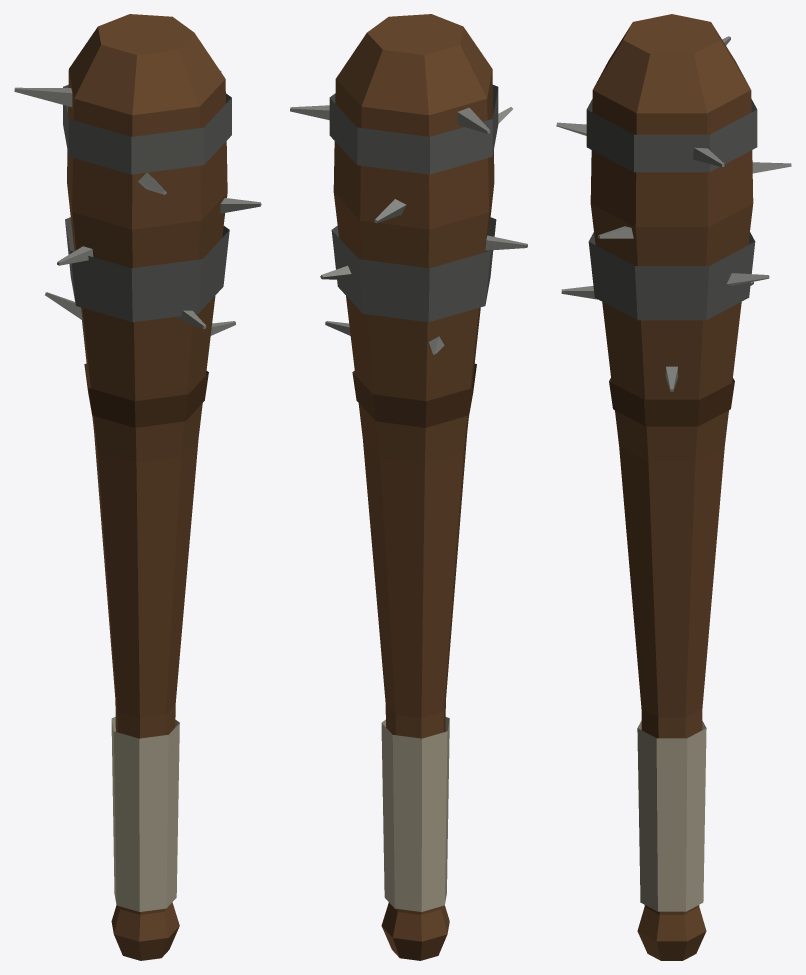
File: clava_pregos.glb
3 renders of one model, left to right at view 1: azimuth 30°, elevation 25°; view 2: azimuth 150°, elevation 25°; view 3: azimuth 270°, elevation 25°, orthographic.
Parts seen in each view (by area): view 1: clava_pregos.001; view 2: clava_pregos.001; view 3: clava_pregos.001.
Boxes of the visible parts, x1,y1,x2,y2 form: clava_pregos.001: (14, 14, 261, 960); clava_pregos.001: (290, 14, 527, 960); clava_pregos.001: (556, 14, 791, 960).
Bounding box in the file's own units: 0.2257 × 0.97 × 0.2256.
